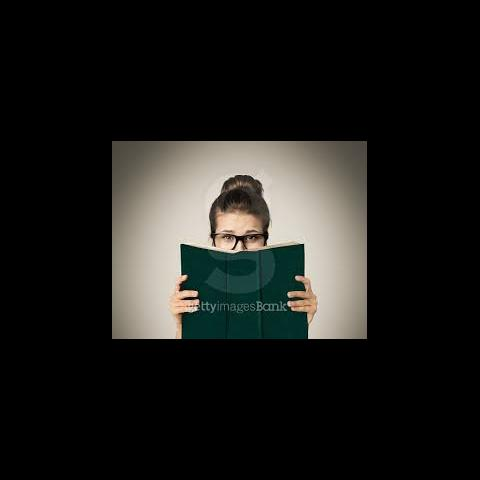opened: (218, 228, 262, 244)
